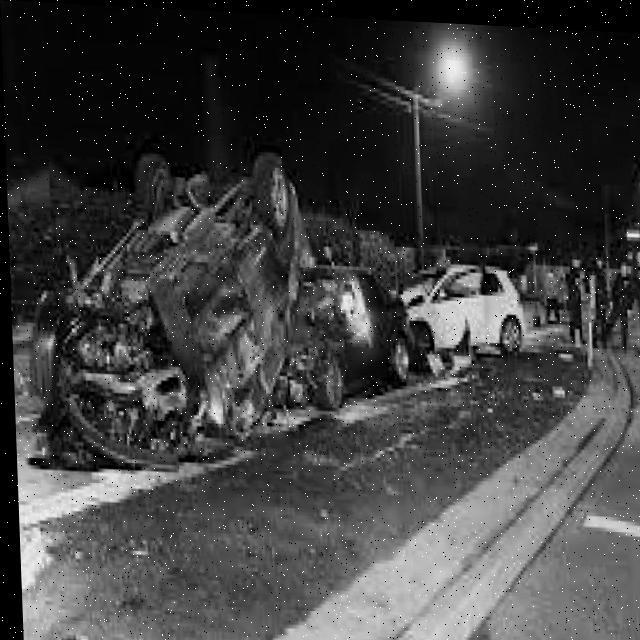multiple_accident: (25, 123, 541, 421)
